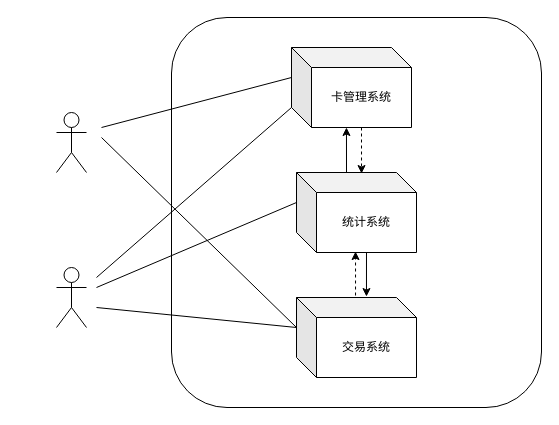
The diagram is 559 pixels wide and 425 high, and some of its shapes have lost their labels. Each missing label, with the centre of its shape:
后台管理员 （需要依赖读卡器）: (71,297)
收款机: (71,142)
